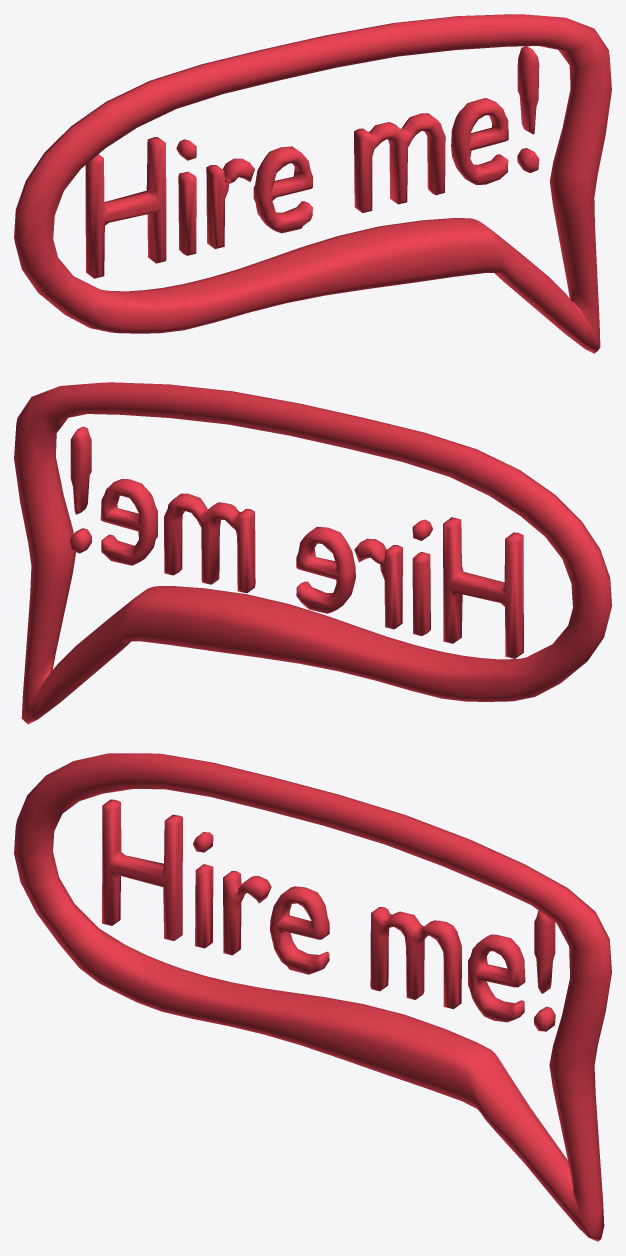
File: Hire me Animation new.fbx
3 views of the same model, one above another, from view 1: azimuth 30°, elevation 25°; view 2: azimuth 150°, elevation 25°; view 3: azimuth 330°, elevation 25° (orthographic).
Parts seen in each view (by area): view 1: Hire me; view 2: Hire me; view 3: Hire me.
Part boxes in pixels (left/top/right/bottom): Hire me: left=14, top=14, right=611, bottom=353; Hire me: left=14, top=382, right=611, bottom=724; Hire me: left=14, top=753, right=611, bottom=1241.
Size of the model in its own units: 111 by 68.89 by 10.08.
